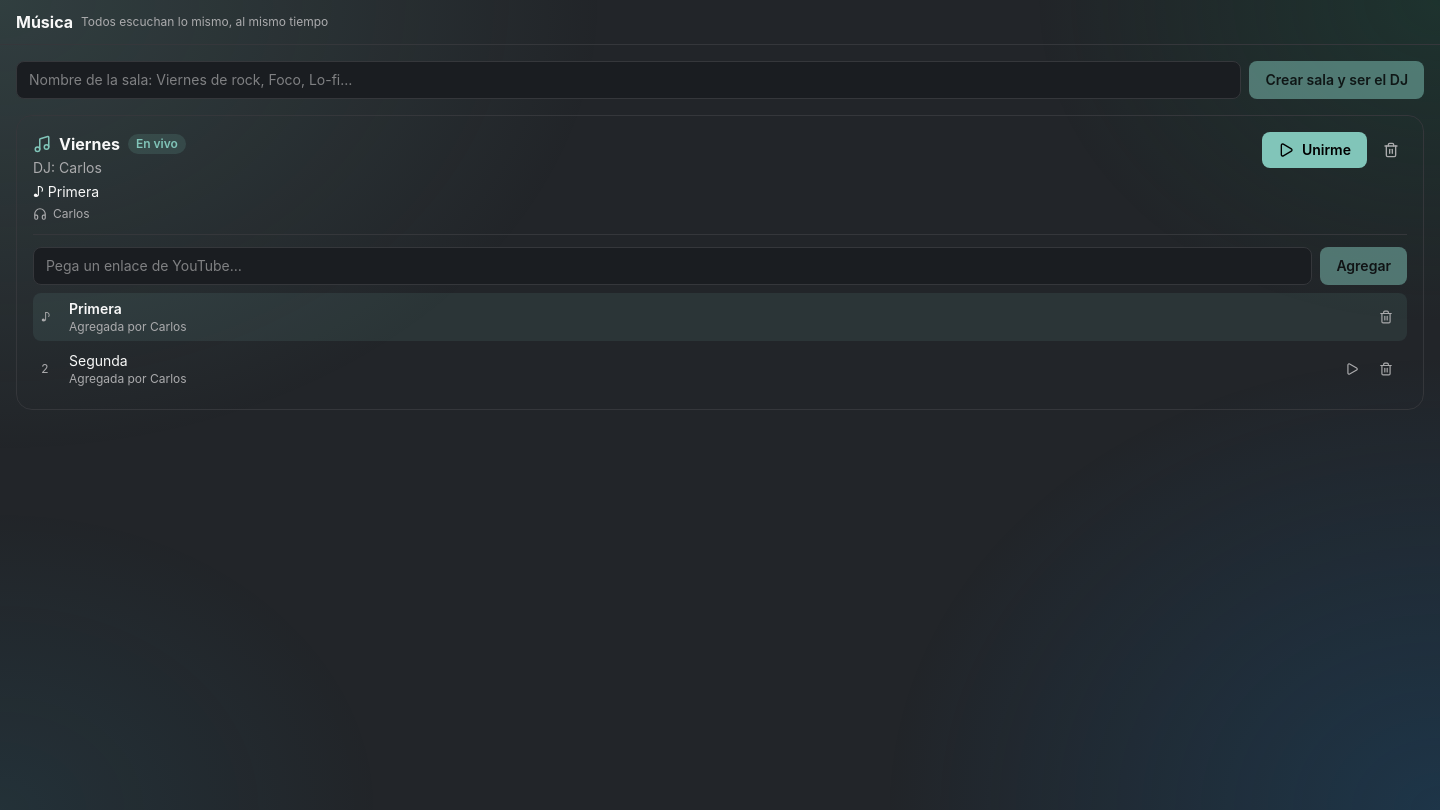
Scenario: music rooms › the DJ queues a link, pauses, skips and deletes; a change from the server moves everyone
Later steps or results of the test are not shown.
Click the button "Unirme".
click(1314, 150)  # box top-left (1262, 132), bottom-right (1367, 168)
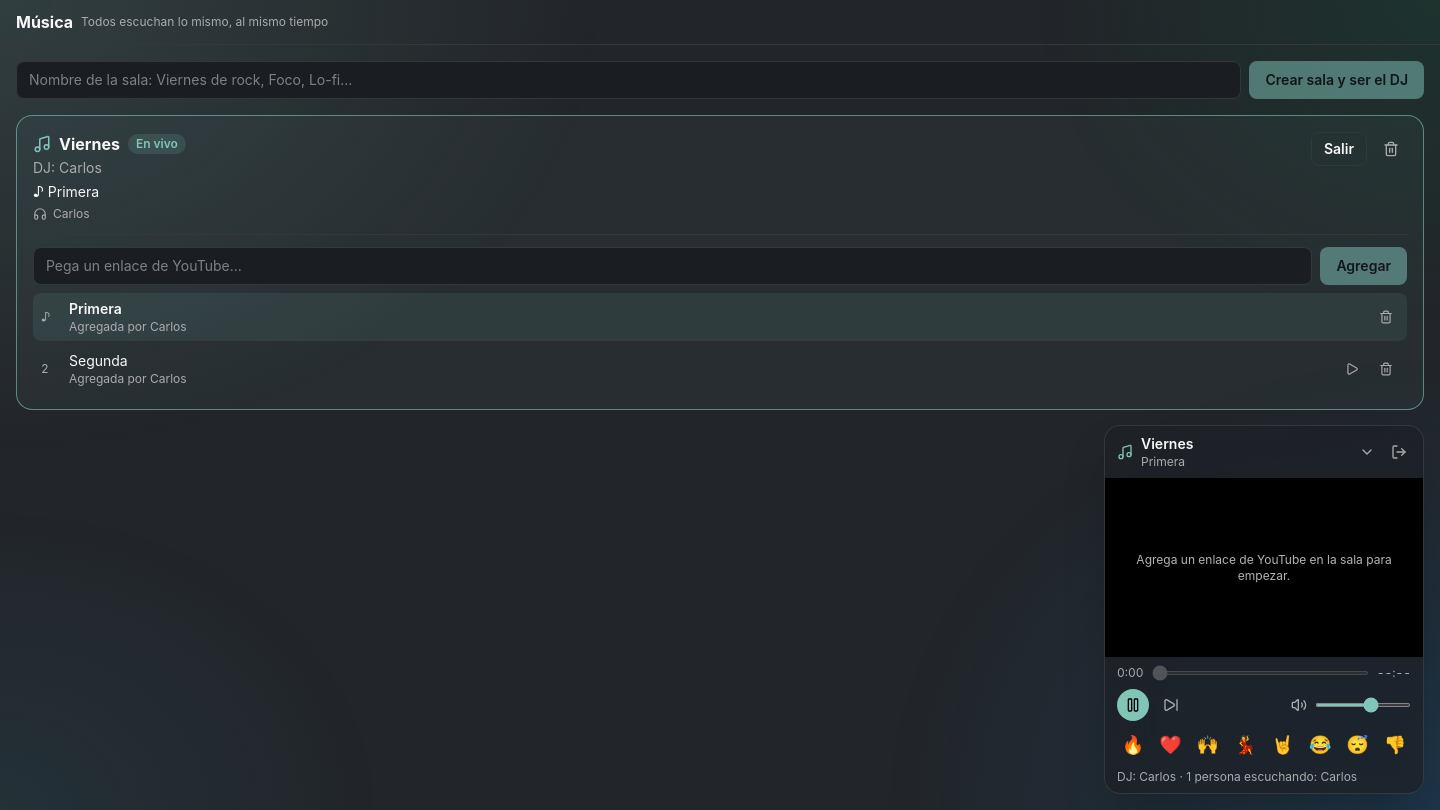
Type "https://youtu.be/dQw4w9WgXcQ" into the field labelled "enlace de YouTube".
click(673, 266); type("https://youtu.be/dQw4w9WgXcQ")  # box top-left (33, 247), bottom-right (1312, 285)
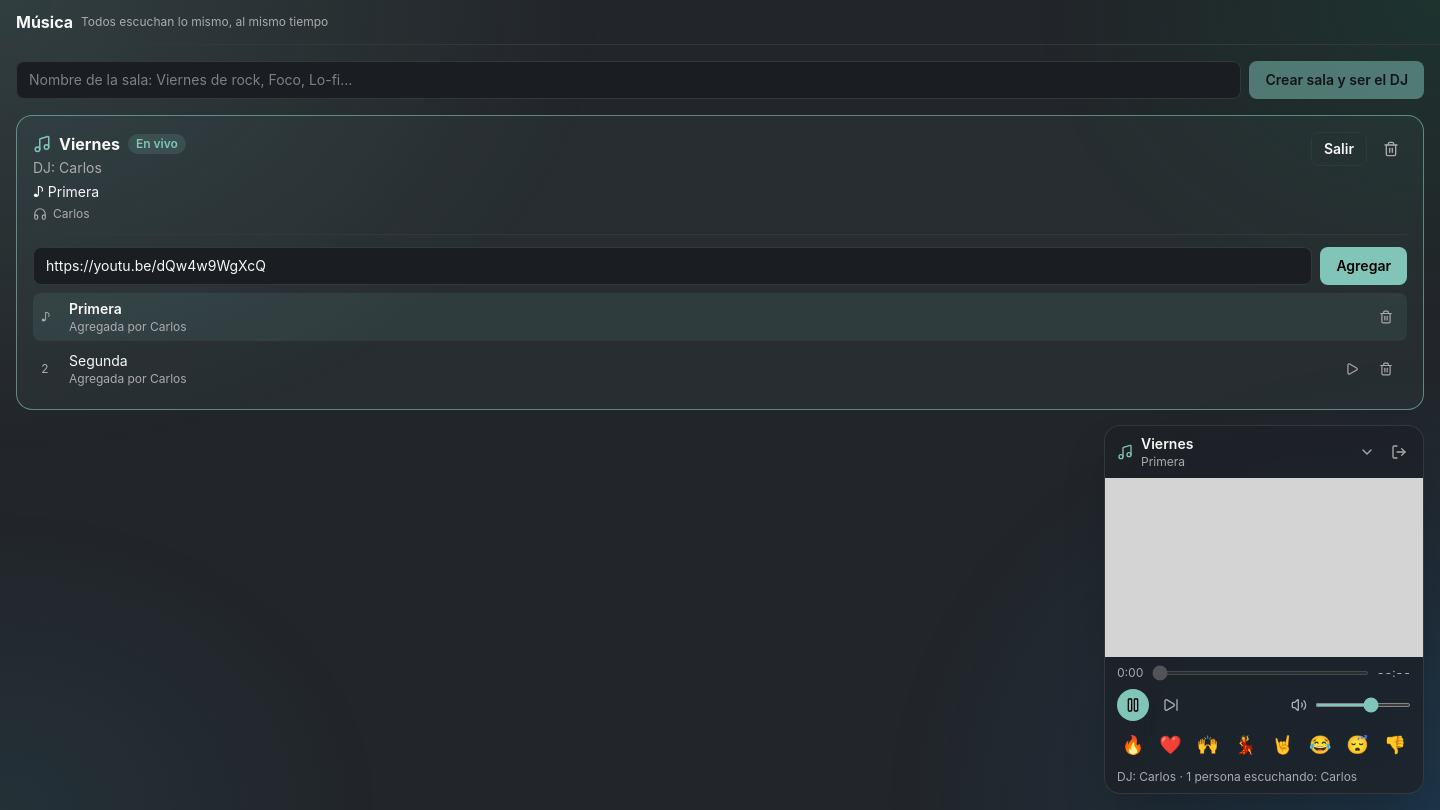
Click the button "Agregar".
click(1364, 266)  # box top-left (1320, 247), bottom-right (1407, 285)
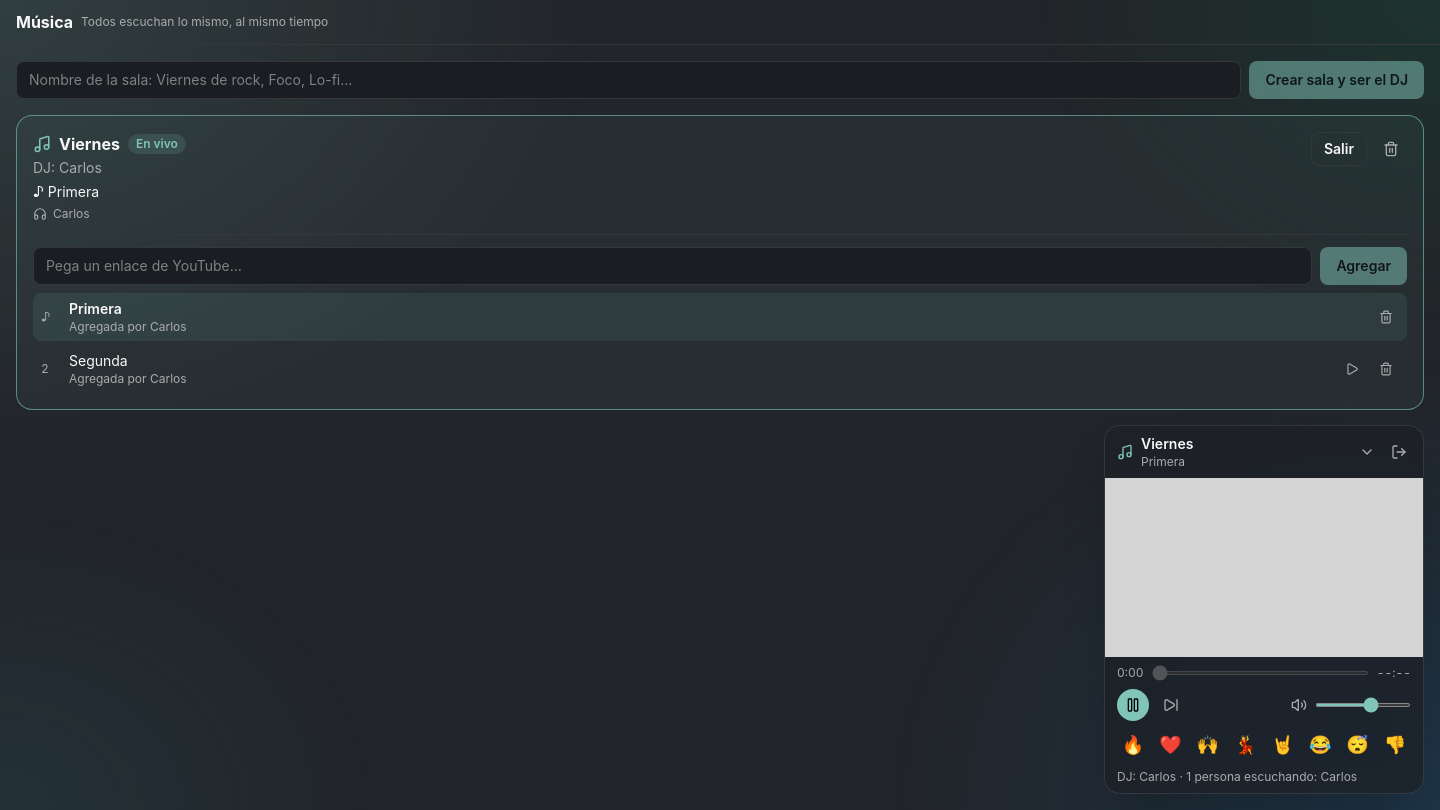
Click the button named "Pausar para todos".
click(1133, 705)  # box top-left (1117, 689), bottom-right (1149, 721)
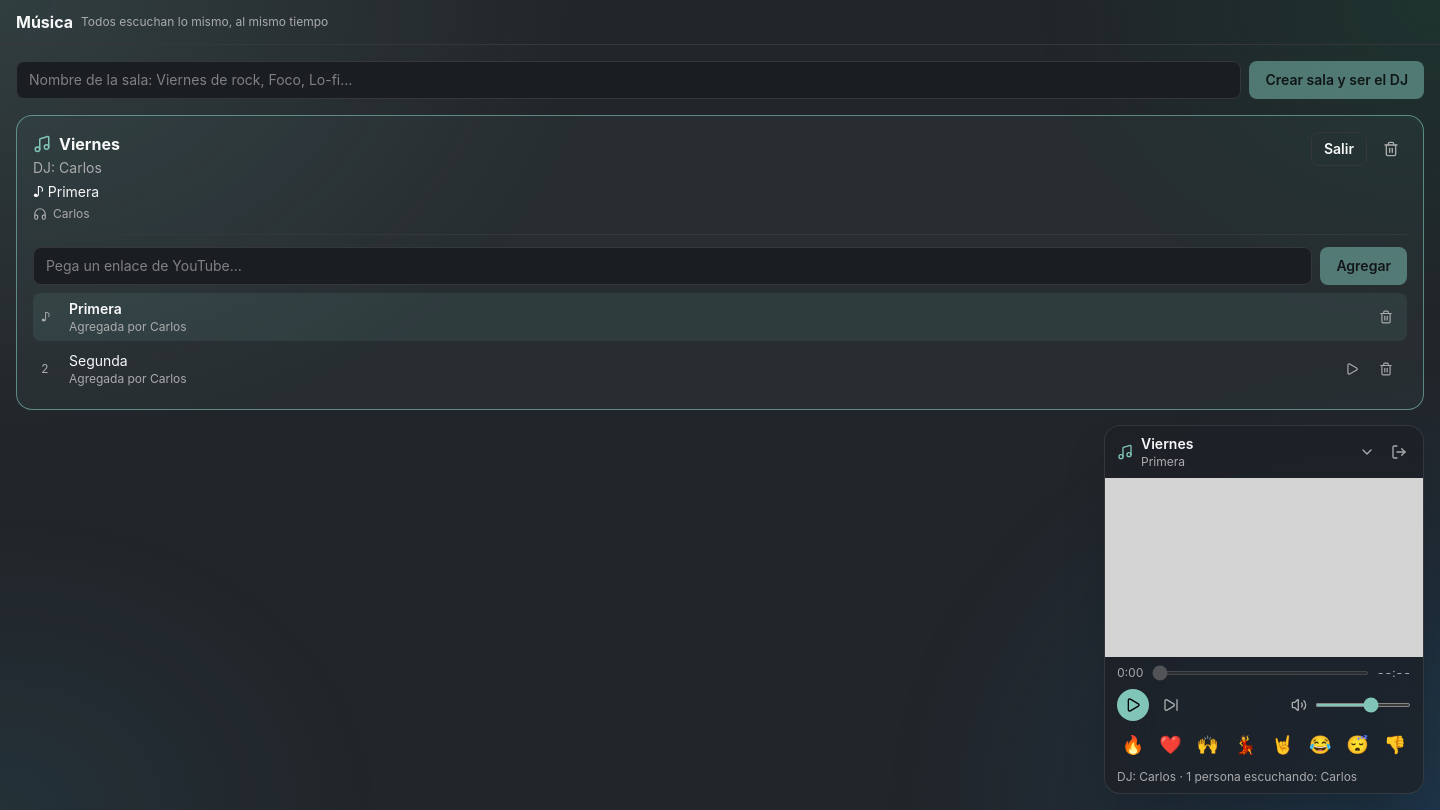
Now the button named "Reproducir para todos" is shown, box top-left (1117, 689), bottom-right (1149, 721)
